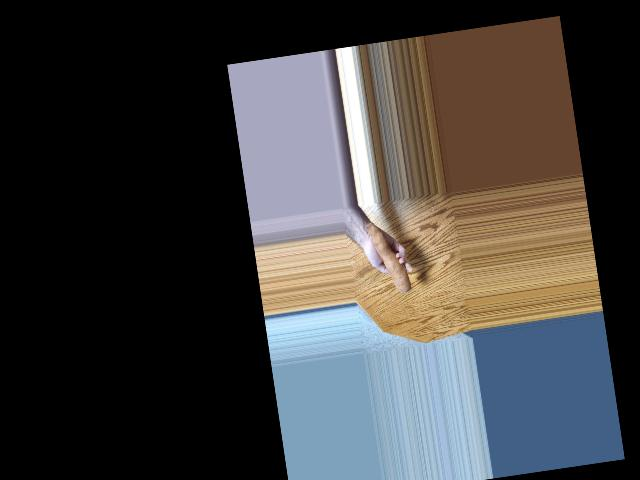sweet_potato: (364, 218, 406, 294)
